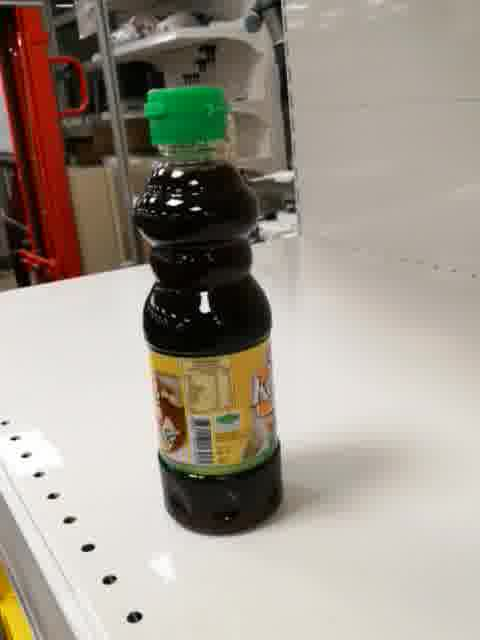cookingoil: (130, 81, 284, 538)
